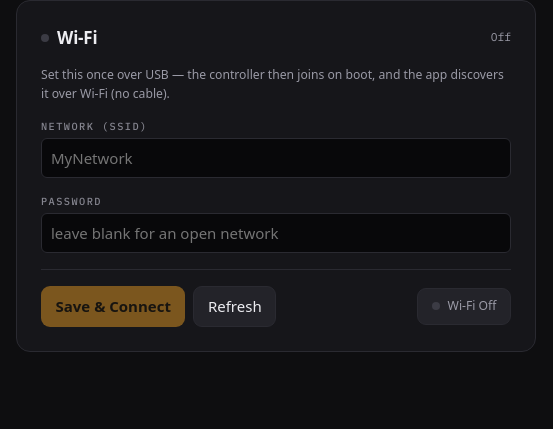
Test: Wifi screen › saving sends wifi_set with ssid + password and reports the IP
Type "Studio" into the field with placeholder "MyNetwork" at [276, 158], box [41,138,511,178]
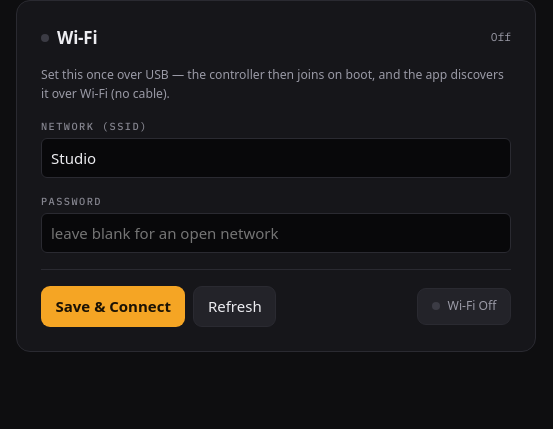
Type "hunter2" into the password field with placeholder "leave blank for an open network" at [276, 233], box [41,213,511,253]
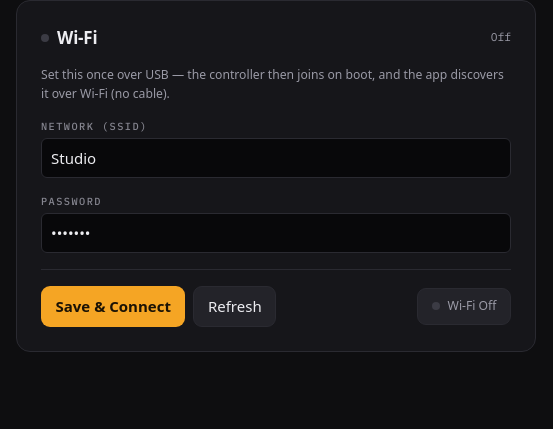
Click the button "Save & Connect" at [113, 306], box [41,286,185,327]
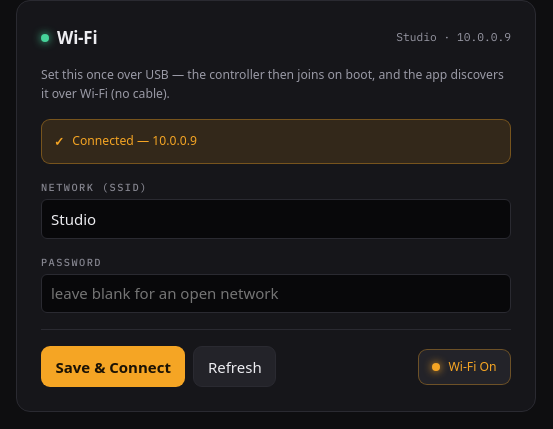
Expected: the text "Studio · 10.0.0.9" is shown, [396,29,511,46]
